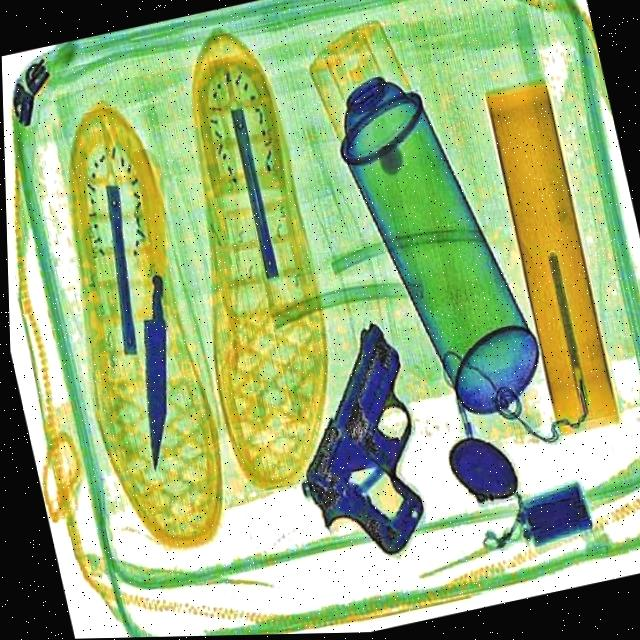knife: (110, 275, 204, 476)
pistol: (266, 317, 441, 577)
